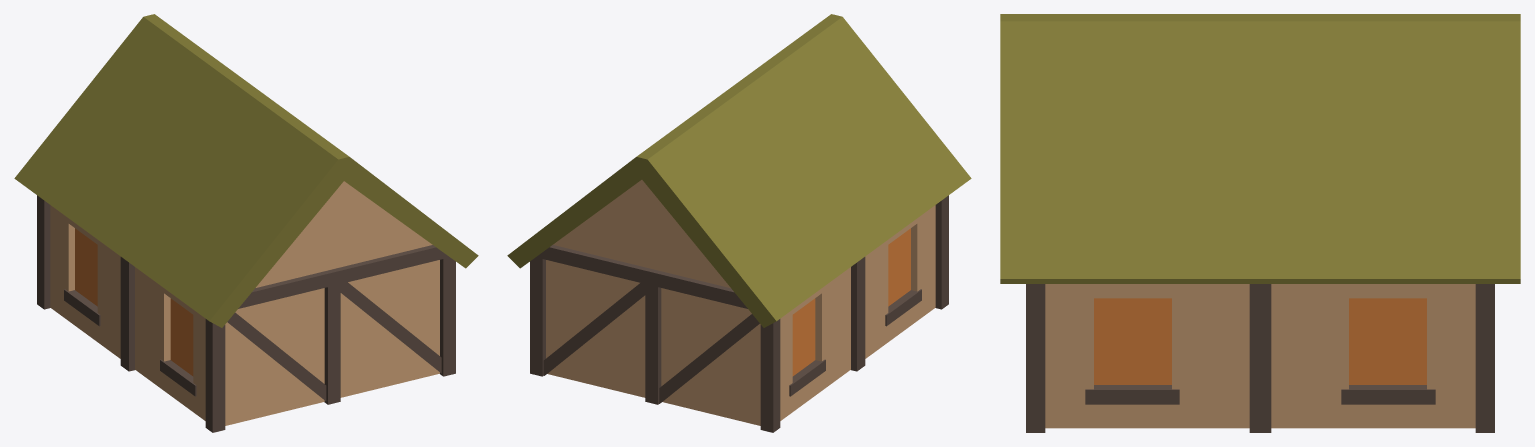
The model's file is house2.fbx.
3 views of the same model, side by side, from view 1: azimuth 30°, elevation 25°; view 2: azimuth 150°, elevation 25°; view 3: azimuth 270°, elevation 25° (orthographic). The views are drawn at different scales.
Visible parts, largest first — view 1: Cube.009, Cube, Cube.001, Cube.004, Cube.005, Cube.010; view 2: Cube.009, Cube, Cube.001, Cube.002, Cube.003, Cube.010; view 3: Cube.009, Cube, Cube.001, Cube.010.
Boxes of the visible parts, <box> form: Cube.009: <box>14,14,478,327</box>; Cube: <box>50,181,439,425</box>; Cube.001: <box>37,195,455,432</box>; Cube.004: <box>340,282,441,373</box>; Cube.005: <box>227,312,326,400</box>; Cube.010: <box>64,289,196,396</box>; Cube.009: <box>507,14,971,327</box>; Cube: <box>546,180,935,425</box>; Cube.001: <box>530,195,948,432</box>; Cube.002: <box>543,283,645,375</box>; Cube.003: <box>659,314,759,403</box>; Cube.010: <box>789,289,921,396</box>; Cube.009: <box>1000,14,1520,283</box>; Cube: <box>1045,284,1475,428</box>; Cube.001: <box>1026,284,1494,432</box>; Cube.010: <box>1085,385,1435,404</box>.
Bounding box in the file's own units: 3386 × 3032 × 4249.
